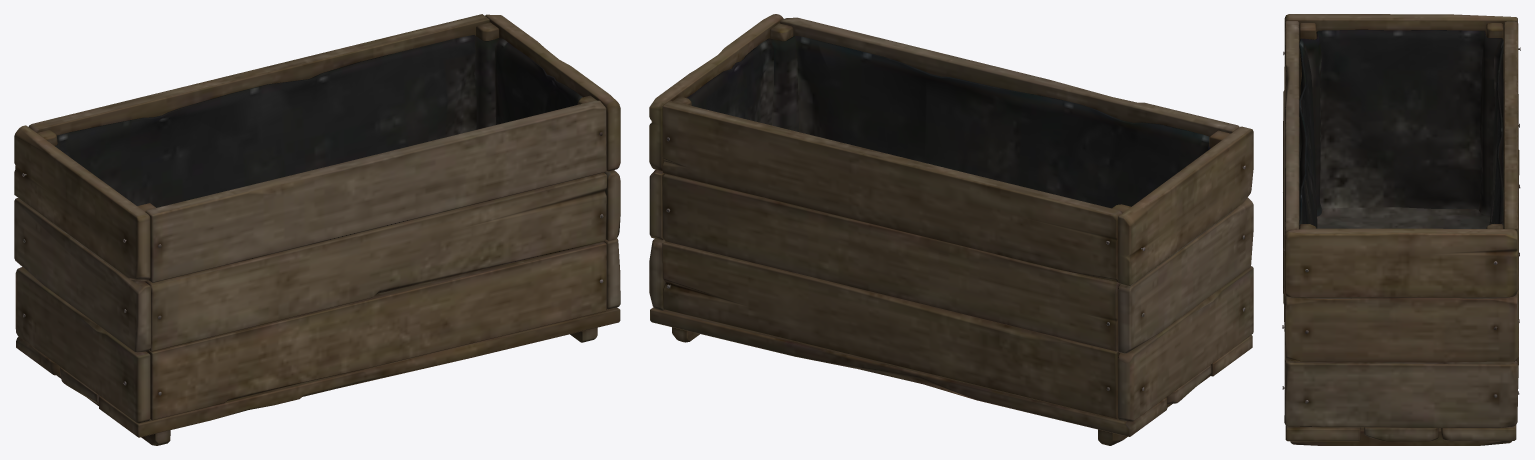
Rendered from planter_box_01.glb.
The picture shows the model from 3 angles, left to right: view 1: azimuth 30°, elevation 25°; view 2: azimuth 150°, elevation 25°; view 3: azimuth 270°, elevation 25°; orthographic projection. The views are drawn at different scales.
Parts seen in each view (by area): view 1: planter_box_01; view 2: planter_box_01; view 3: planter_box_01.
Boxes of the visible parts, x1,y1,x2,y2 form: planter_box_01: (14,14,620,445); planter_box_01: (649,14,1253,445); planter_box_01: (1282,14,1520,445).
Size of the model in its own units: 0.9126 by 0.4249 by 0.4137.
1 material, 1 textured.
